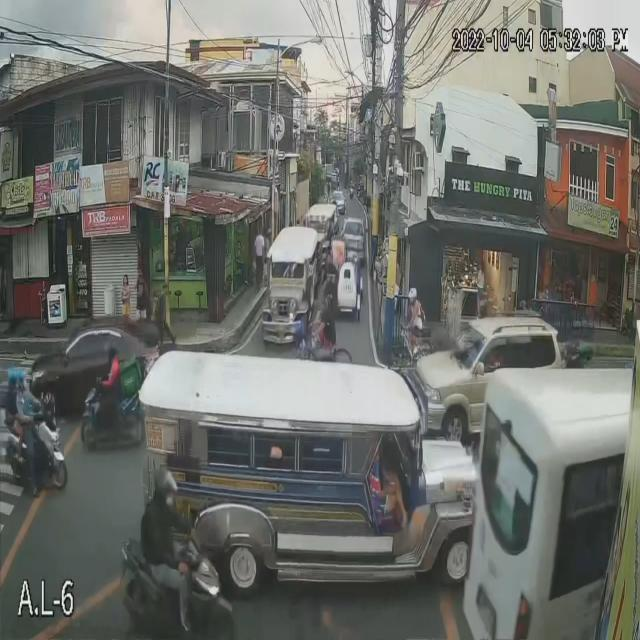half: (154, 472, 178, 512), (17, 368, 28, 394), (105, 339, 117, 362), (5, 370, 17, 392)
